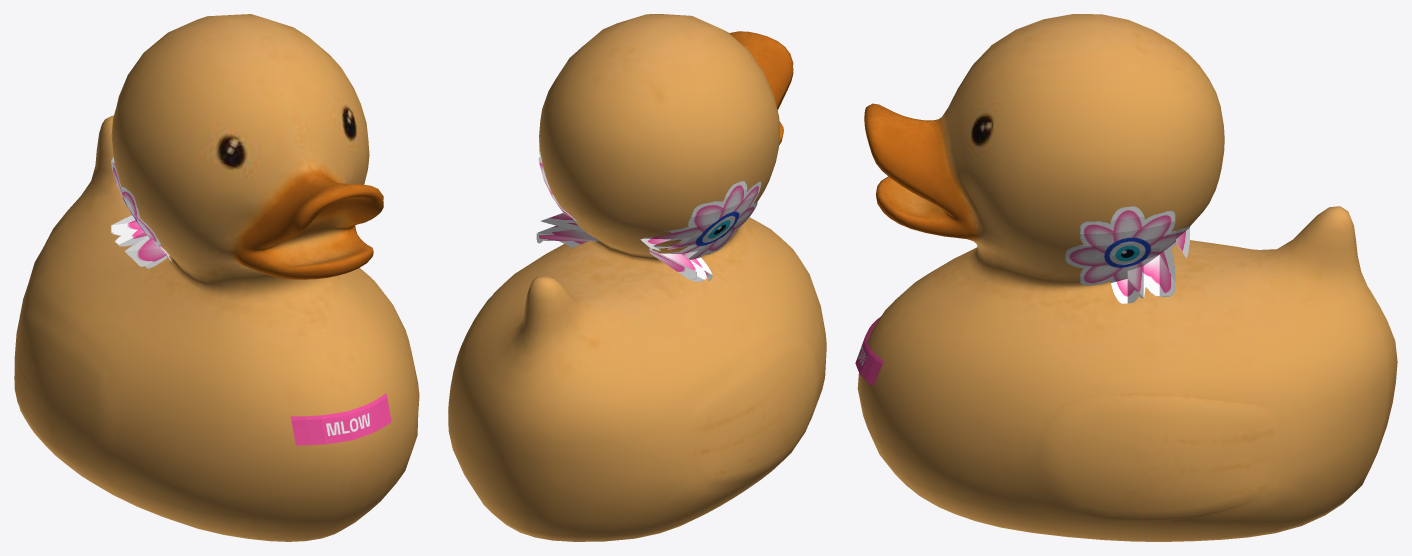
File: nyb_big_duck.glb
3 renders of one model, left to right at view 1: azimuth 30°, elevation 25°; view 2: azimuth 150°, elevation 25°; view 3: azimuth 270°, elevation 25°, orthographic. The views are drawn at different scales.
Parts seen in each view (by area): view 1: rubber_duck_toy, stk_lbl_0c9fc3dab3.png, stk_eyeflower_die.png.001; view 2: rubber_duck_toy, stk_eyeflower_die.png.001, stk_eyeflower_die.png; view 3: rubber_duck_toy, stk_eyeflower_die.png, stk_lbl_0c9fc3dab3.png.
Boxes of the visible parts, x1,y1,x2,y2 form: rubber_duck_toy: (14, 14, 419, 541); stk_lbl_0c9fc3dab3.png: (290, 393, 391, 445); stk_eyeflower_die.png.001: (111, 157, 173, 268); rubber_duck_toy: (448, 14, 826, 541); stk_eyeflower_die.png.001: (640, 181, 761, 282); stk_eyeflower_die.png: (536, 139, 599, 247); rubber_duck_toy: (857, 14, 1397, 541); stk_eyeflower_die.png: (1065, 206, 1189, 303); stk_lbl_0c9fc3dab3.png: (855, 316, 883, 386).
Bounding box in the file's own units: 0.2135 × 0.2855 × 0.3013.
Materials: 4 (4 with a texture image).
